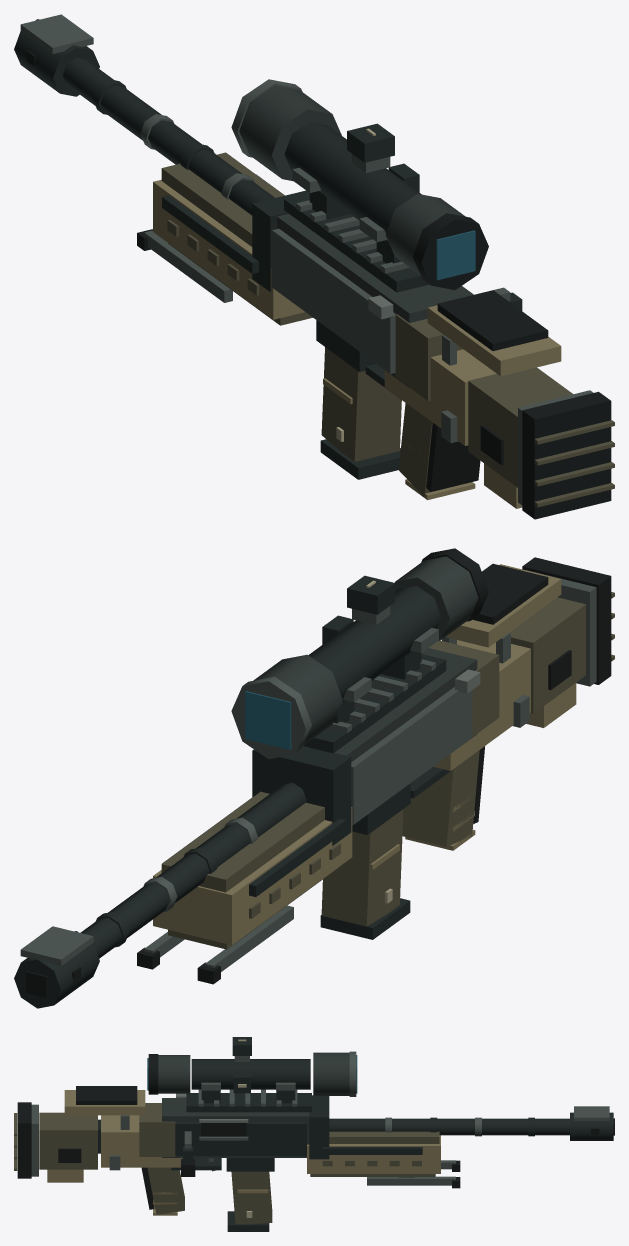
3 views of the same model, one above another, from view 1: azimuth 30°, elevation 25°; view 2: azimuth 150°, elevation 25°; view 3: azimuth 270°, elevation 25° (orthographic). The views are drawn at different scales.
Visible parts, largest first — view 1: Merged_material (×7); view 2: Merged_material (×7); view 3: Merged_material (×6).
Part boxes in pixels (left/top/right/bottom): Merged_material (×7): left=14, top=14, right=614, bottom=519; Merged_material (×7): left=14, top=548, right=614, bottom=1008; Merged_material (×6): left=14, top=1037, right=614, bottom=1231.
Size of the model in its own units: 0.173 by 0.3655 by 1.08.
